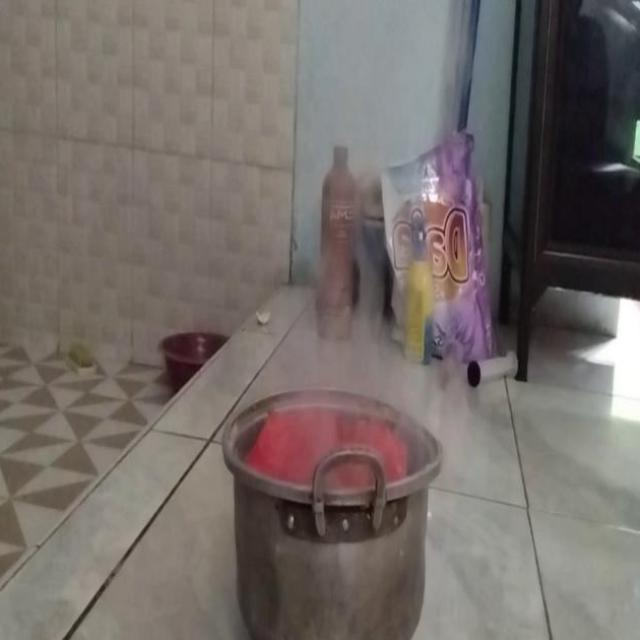fire: (333, 60, 424, 399)
